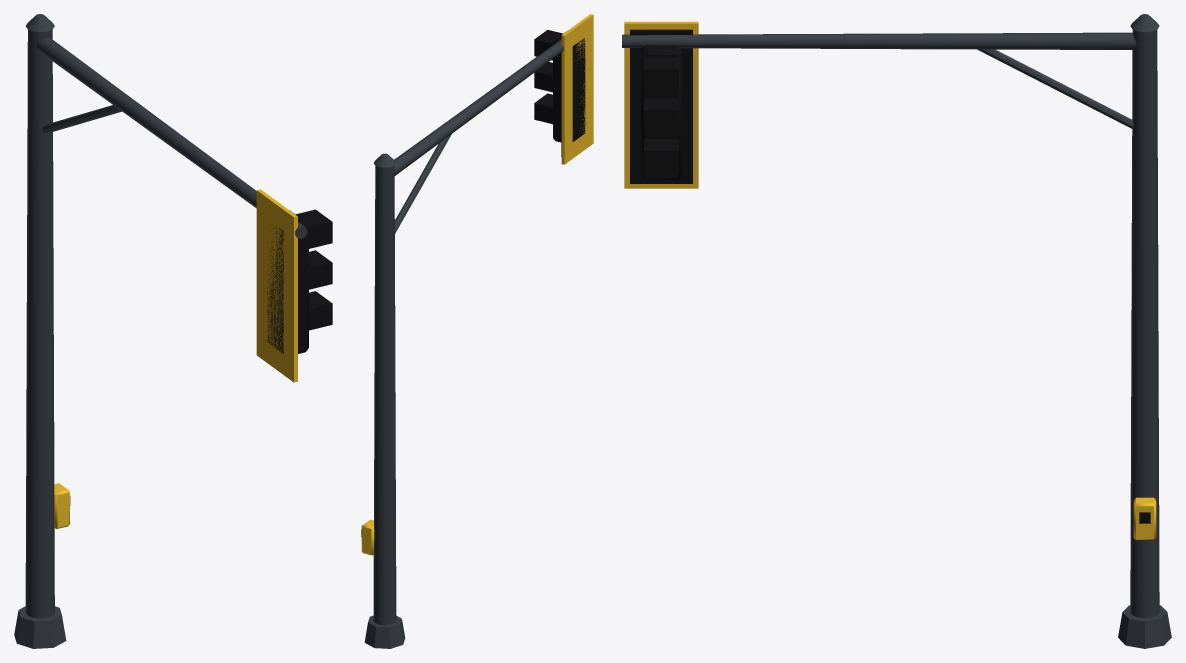
Rendered from traffic_light.glb.
3 views of the same model, side by side, from view 1: azimuth 30°, elevation 25°; view 2: azimuth 150°, elevation 25°; view 3: azimuth 270°, elevation 25° (orthographic). The views are drawn at different scales.
Parts seen in each view (by area): view 1: PROP_traffic_light; view 2: PROP_traffic_light; view 3: PROP_traffic_light.
Part boxes in pixels (x1,y1,x2,y2): PROP_traffic_light: [14, 14, 332, 648]; PROP_traffic_light: [361, 14, 593, 648]; PROP_traffic_light: [622, 14, 1171, 648].
Size of the model in its own units: 0.67 by 6.1 by 4.89.
